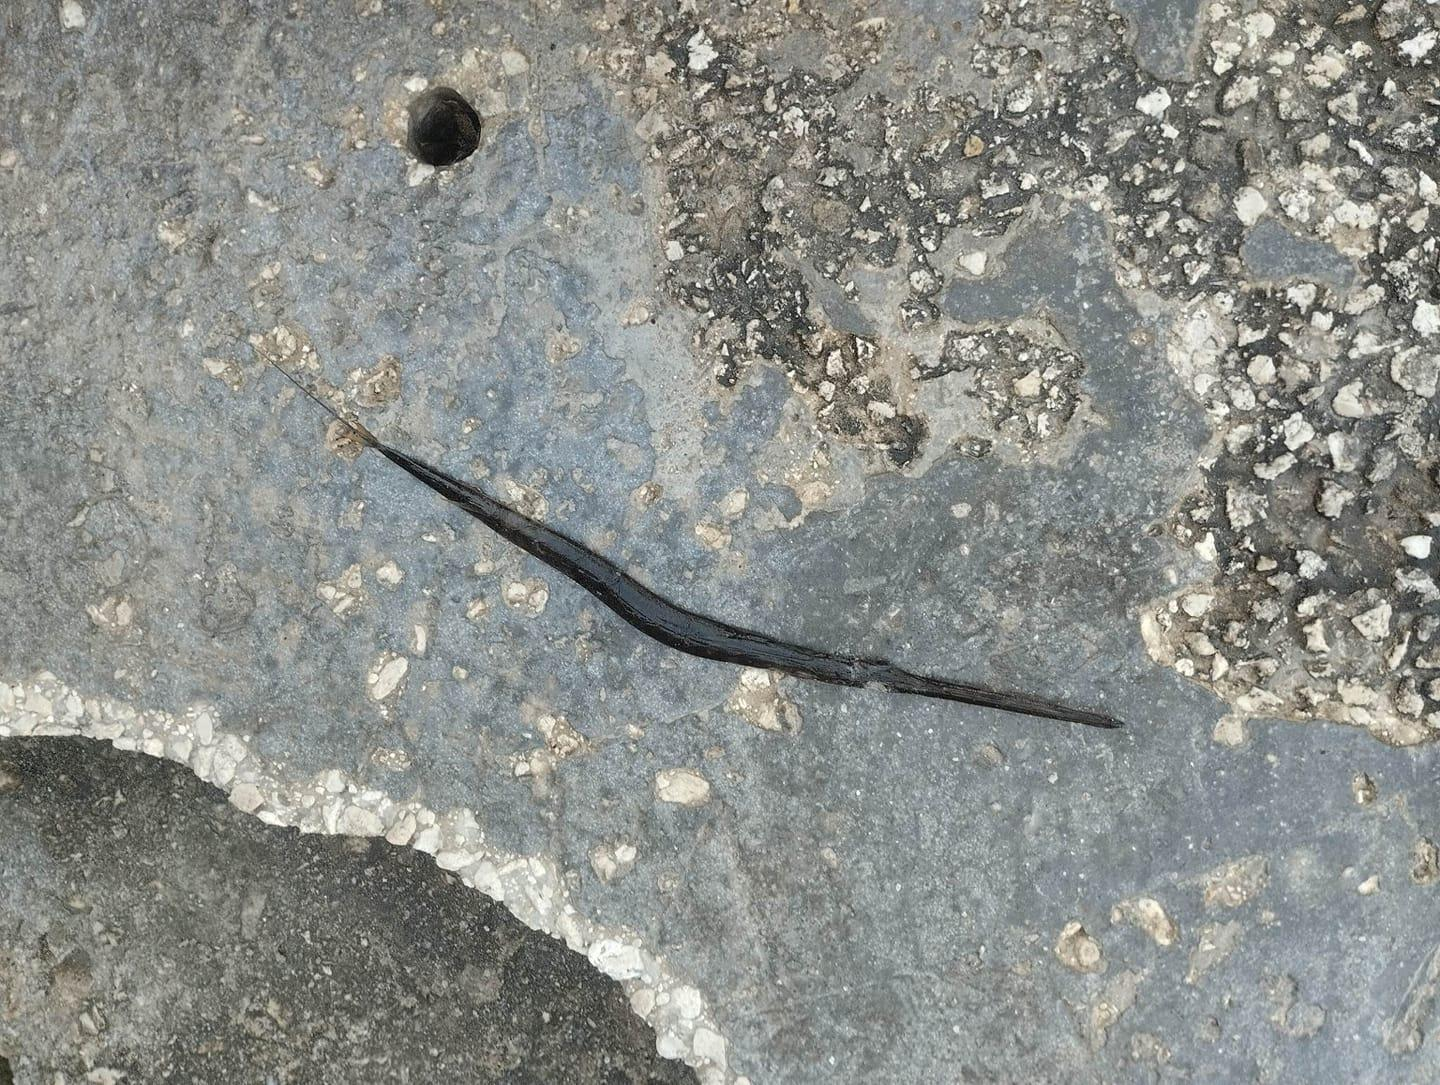Fistularia commersonii: (162, 354, 1203, 847)
